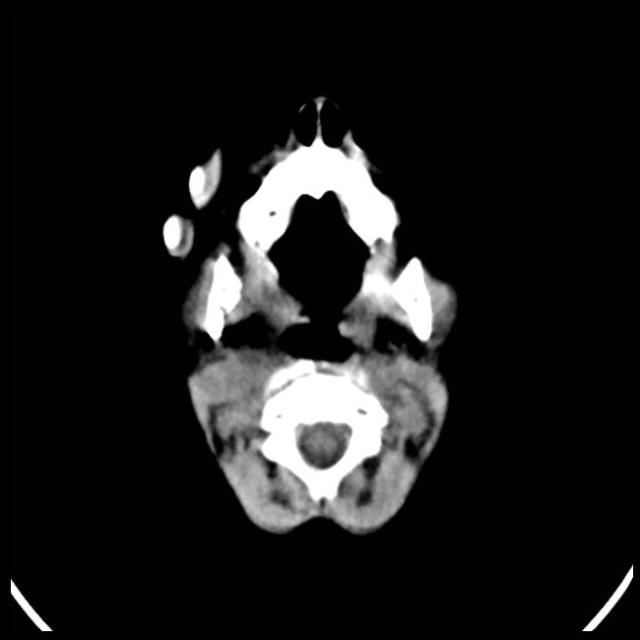lesion: (153, 88, 464, 540)
